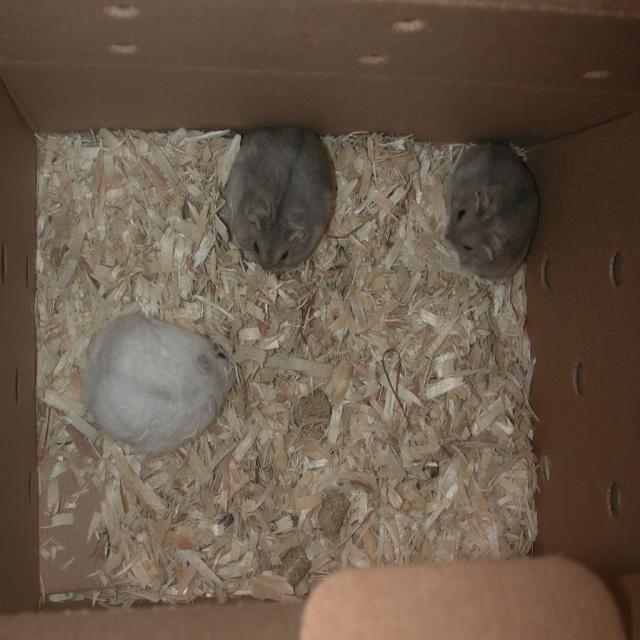rat: (81, 310, 239, 456), (228, 125, 336, 271), (444, 138, 539, 278)
